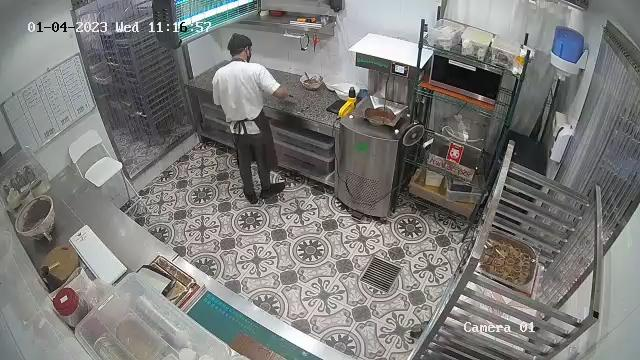apron: (225, 109, 268, 135)
